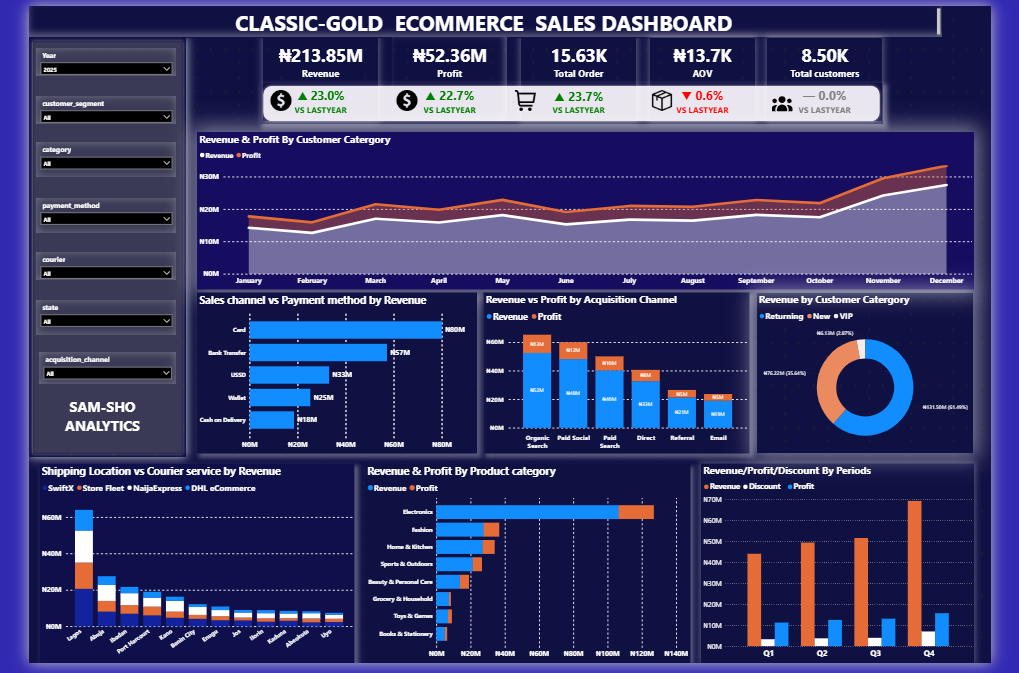

The page's visual inventory and layout, read from the dashboard file:
{"tool":"powerbi","page":{"name":"SALES PERFORMANCE DASHBOARD ","canvas":[2650,1500],"ordinal":1},"visuals":[{"type":"shape","box":[832,232,1424,96],"z":0,"group":"g1"},{"type":"clusteredColumnChart","title":"Revenue / Profit By Customer Catergory","fields":{"Category":["Calendar.Date.Variation.Date Hierarchy.Month"],"Y":["Factsales.Revenue","Calendar.Profit"]},"box":[416,336,2208,368],"z":0},{"type":"textbox","box":[0,0,2592,96],"z":1000},{"type":"shape","box":[32,128,360,912],"z":1000,"group":"g2"},{"type":"cardVisual","fields":{"Data":["Factsales.Total Revenue","Calendar.Revenue Growth Indicator"]},"box":[840,128,264,192],"z":2000,"group":"g1"},{"type":"barChart","title":"Revenue  / Profit By Product category","fields":{"Category":["products.category"],"Y":["Factsales.Total Revenue","Calendar.Total_Profit"]},"box":[1008,1052,864,448],"z":2000},{"type":"cardVisual","fields":{"Data":["Factsales.Total Order","Calendar.Order_Growth_Indicator"]},"box":[1428,128,264,192],"z":3000,"group":"g1"},{"type":"clusteredColumnChart","title":" Revenue/Profit/Discount By Periods","fields":{"Y":["Factsales.Total Revenue","Sum(Factsales.Discount  value)","Calendar.Total_Profit"],"Category":["Calendar.Quarter"]},"box":[1888,1052,736,448],"z":3000},{"type":"lineStackedColumnComboChart","title":"Shipping Location / Courier service by Revenue","fields":{"Category":["customers.city"],"Y":["Factsales.Total Revenue"],"Series":["shipments.courier"]},"box":[32,1052,960,448],"z":4000},{"type":"columnChart","title":"Revenue / Profit by Acquisition Channel","fields":{"Category":["customers.acquisition_channel"],"Y":["Factsales.Total Revenue","Calendar.Total_Profit"]},"box":[1216,720,784,320],"z":5000},{"type":"cardVisual","fields":{"Data":["Factsales.AOV","Calendar.Aov_growth%indicator"]},"box":[1722,128,240,192],"z":6000,"group":"g1"},{"type":"donutChart","title":"Revenue by Customer Catergory","fields":{"Category":["customers.customer_segment"],"Y":["Factsales.Total Revenue"]},"box":[2016,736,608,304],"z":6000},{"type":"image","box":[1416,224,48,96],"z":7000,"group":"g1"},{"type":"barChart","title":"Sales channel / Payment method by  Revenue","fields":{"Category":["payments.payment_method"],"Y":["Factsales.Total Revenue"]},"box":[416,720,768,320],"z":7000},{"type":"image","box":[840,144,48,144],"z":8000},{"type":"image","box":[1728,224,48,96],"z":8000,"group":"g1"},{"type":"image","box":[552,144,48,144],"z":9000},{"type":"group","id":"g1","title":"Group 1","box":[832,128,1408,192],"z":10000},{"type":"cardVisual","fields":{"Data":["Calendar.Total customers","Calendar.customergrowthIndicator"]},"box":[1992,128,264,192],"z":10000,"group":"g1"},{"type":"group","id":"g2","title":"Group 2","box":[32,128,352,912],"z":11000},{"type":"image","box":[2000,248,48,64],"z":11000,"group":"g1"},{"type":"slicer","fields":{"Values":["Calendar.Year"]},"box":[48,150.8,320,60.8],"z":12000,"group":"g2"},{"type":"cardVisual","fields":{"Data":["Calendar.Total_Profit","Calendar.Profitgrowth_Indicator"]},"box":[1134,128,264,192],"z":13000,"group":"g1"},{"type":"slicer","fields":{"Values":["products.category"]},"box":[48,357.5,320,76],"z":15000,"group":"g2"},{"type":"slicer","fields":{"Values":["customers.customer_segment"]},"box":[48,254.2,320,60.8],"z":17000,"group":"g2"},{"type":"slicer","fields":{"Values":["payments.payment_method"]},"box":[48,476.1,320,76],"z":18000,"group":"g2"},{"type":"slicer","fields":{"Values":["shipments.courier"]},"box":[48,594.6,320,60.8],"z":20000,"group":"g2"},{"type":"slicer","fields":{"Values":["customers.state"]},"box":[48,698,320,76],"z":21000,"group":"g2"},{"type":"slicer","fields":{"Values":["customers.acquisition_channel"]},"box":[56,812,312,68.4],"z":22000,"group":"g2"},{"type":"textbox","box":[104,903.2,192,114],"z":27000,"group":"g2"}]}

Visuals, with their boxes on the page's 2650x1500 design canvas (x1, y1, x2, y2). These are canvas units, not pixel positions in the 1019x673 screenshot, which may show the page scaled, cropped or inside an application window:
shape: 832:232:2256:328
"Revenue / Profit By Customer Catergory" clusteredColumnChart: 416:336:2624:704
textbox: 0:0:2592:96
shape: 32:128:392:1040
cardVisual - Factsales.Total Revenue x Calendar.Revenue Growth Indicator: 840:128:1104:320
"Revenue  / Profit By Product category" barChart: 1008:1052:1872:1500
cardVisual - Factsales.Total Order x Calendar.Order_Growth_Indicator: 1428:128:1692:320
" Revenue/Profit/Discount By Periods" clusteredColumnChart: 1888:1052:2624:1500
"Shipping Location / Courier service by Revenue" lineStackedColumnComboChart: 32:1052:992:1500
"Revenue / Profit by Acquisition Channel" columnChart: 1216:720:2000:1040
cardVisual - Factsales.AOV x Calendar.Aov_growth%indicator: 1722:128:1962:320
"Revenue by Customer Catergory" donutChart: 2016:736:2624:1040
image: 1416:224:1464:320
"Sales channel / Payment method by  Revenue" barChart: 416:720:1184:1040
image: 840:144:888:288
image: 1728:224:1776:320
image: 552:144:600:288
"Group 1" group: 832:128:2240:320
cardVisual - Calendar.Total customers x Calendar.customergrowthIndicator: 1992:128:2256:320
"Group 2" group: 32:128:384:1040
image: 2000:248:2048:312
slicer - Calendar.Year: 48:151:368:212
cardVisual - Calendar.Total_Profit x Calendar.Profitgrowth_Indicator: 1134:128:1398:320
slicer - products.category: 48:358:368:434
slicer - customers.customer_segment: 48:254:368:315
slicer - payments.payment_method: 48:476:368:552
slicer - shipments.courier: 48:595:368:655
slicer - customers.state: 48:698:368:774
slicer - customers.acquisition_channel: 56:812:368:880
textbox: 104:903:296:1017
